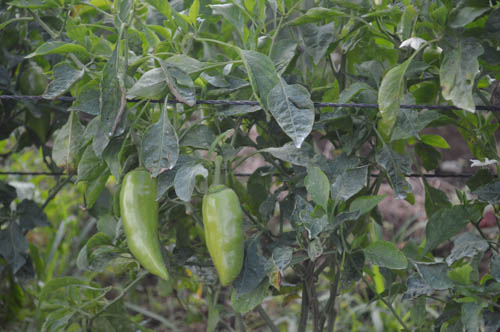ChiliPepper: (118, 171, 169, 283), (203, 188, 247, 288)
